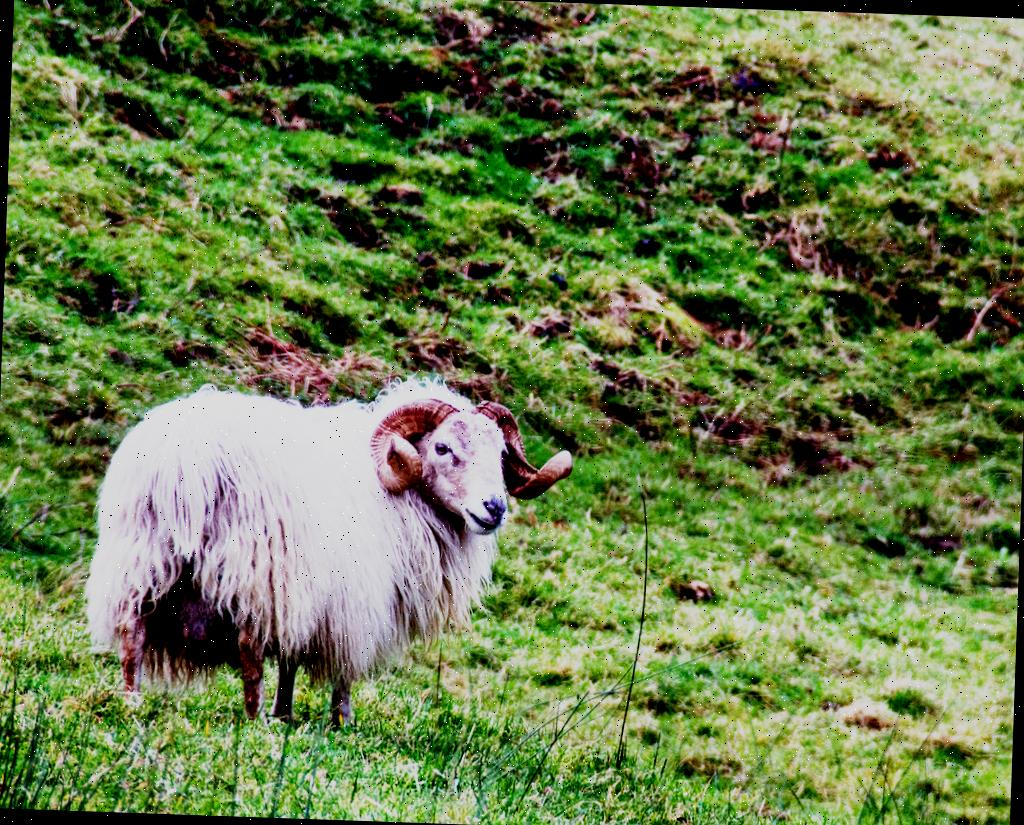Sheep: (86, 366, 564, 766)
